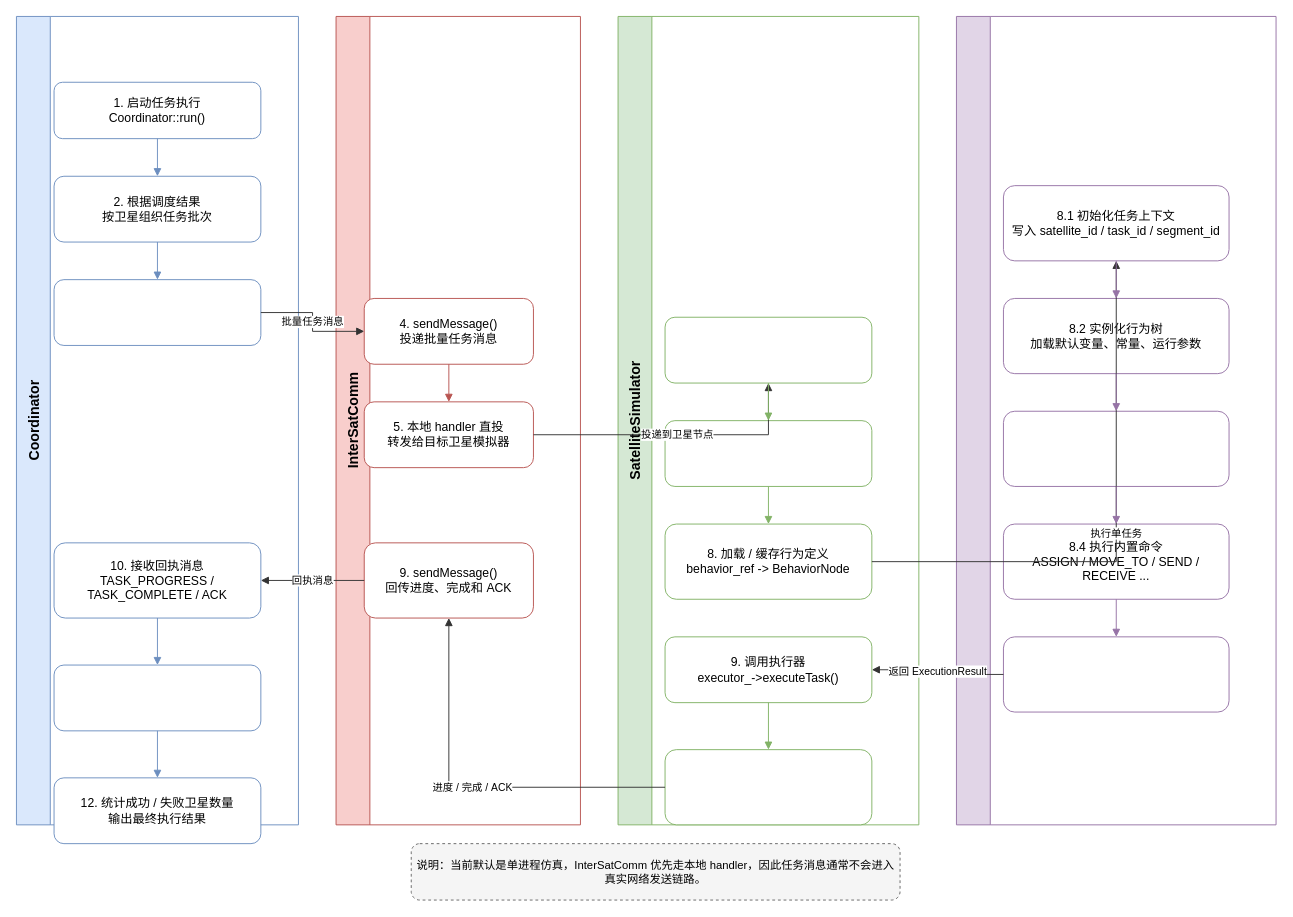
This 1293x917 diagram has some shape labels left out. Each missing label, with the box of its shape:
11. 更新任务状态 等待所有卫星完成或超时: (53, 664, 261, 731)
3. 构造 BATCH_TASK_ASSIGN 包含该卫星全部任务: (53, 279, 261, 345)
6. handleBatchTaskAssign() 解析批量任务消息: (664, 316, 872, 383)
7. 逐条遍历任务 转换为 TaskSegment: (664, 420, 872, 486)
8.3 递归执行节点 Sequence / Selector / Action / Condition: (1003, 410, 1229, 486)
8.5 汇总结果并清理上下文 失败时按快照回滚变量状态: (1003, 636, 1229, 712)
9+. 组织执行结果 发送 TASK_PROGRESS / TASK_COMPLETE / ACK: (664, 749, 872, 825)
GenericExecutor: (956, 16, 1276, 825)
